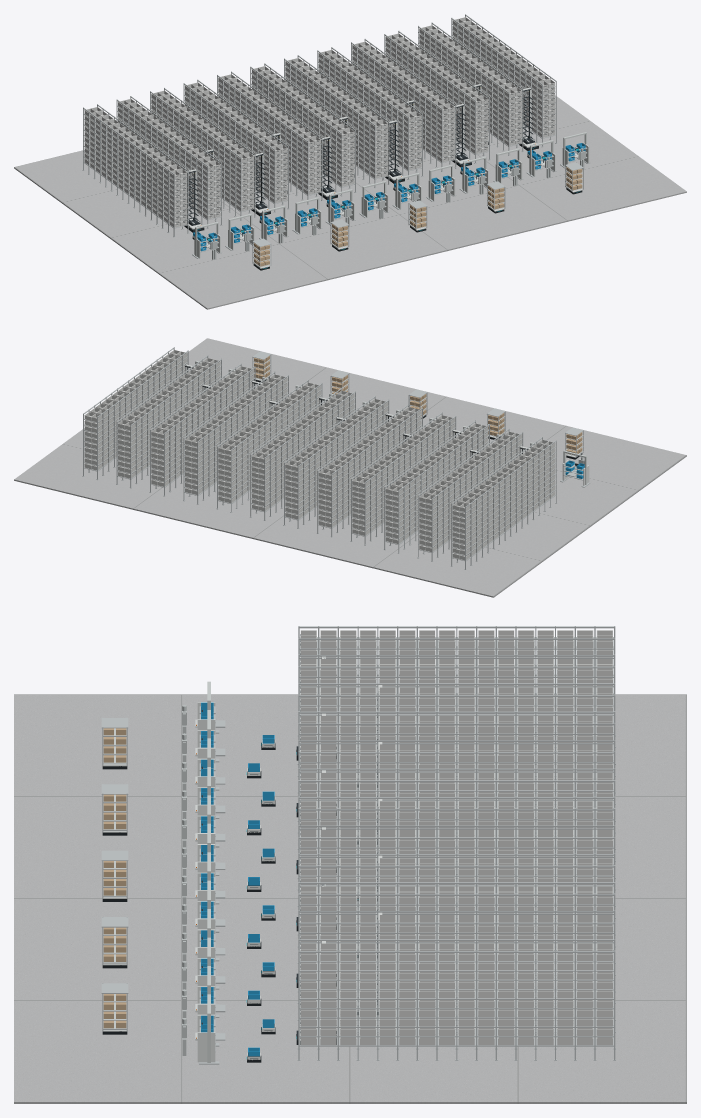
The picture shows the model from 3 angles, top to bottom: view 1: azimuth 30°, elevation 25°; view 2: azimuth 150°, elevation 25°; view 3: azimuth 270°, elevation 25°; orthographic projection. The views are drawn at different scales.
Parts seen in each view (by area): view 1: Floor slab; view 2: Floor slab; view 3: Floor slab, Top longitudinal rail, Top longitudinal rail.011, Top longitudinal rail.018, Top longitudinal rail.003, Top longitudinal rail.006, Top longitudinal rail.007, Top longitudinal rail.010, Top longitudinal rail.014, Top longitudinal rail.017, Top longitudinal rail.021.
Boxes of the visible parts, x1,y1,x2,y2 form: Floor slab: (14, 95, 686, 309); Floor slab: (14, 338, 686, 597); Floor slab: (14, 694, 686, 1103); Top longitudinal rail: (299, 626, 614, 628); Top longitudinal rail.011: (299, 780, 614, 782); Top longitudinal rail.018: (299, 882, 614, 884); Top longitudinal rail.003: (299, 666, 614, 668); Top longitudinal rail.006: (299, 711, 614, 713); Top longitudinal rail.007: (299, 723, 614, 725); Top longitudinal rail.010: (299, 768, 614, 770); Top longitudinal rail.014: (299, 825, 614, 827); Top longitudinal rail.017: (299, 865, 614, 867); Top longitudinal rail.021: (299, 922, 614, 924).
Size of the model in its own units: 43 by 5.48 by 30.
13 materials, 1 textured.
